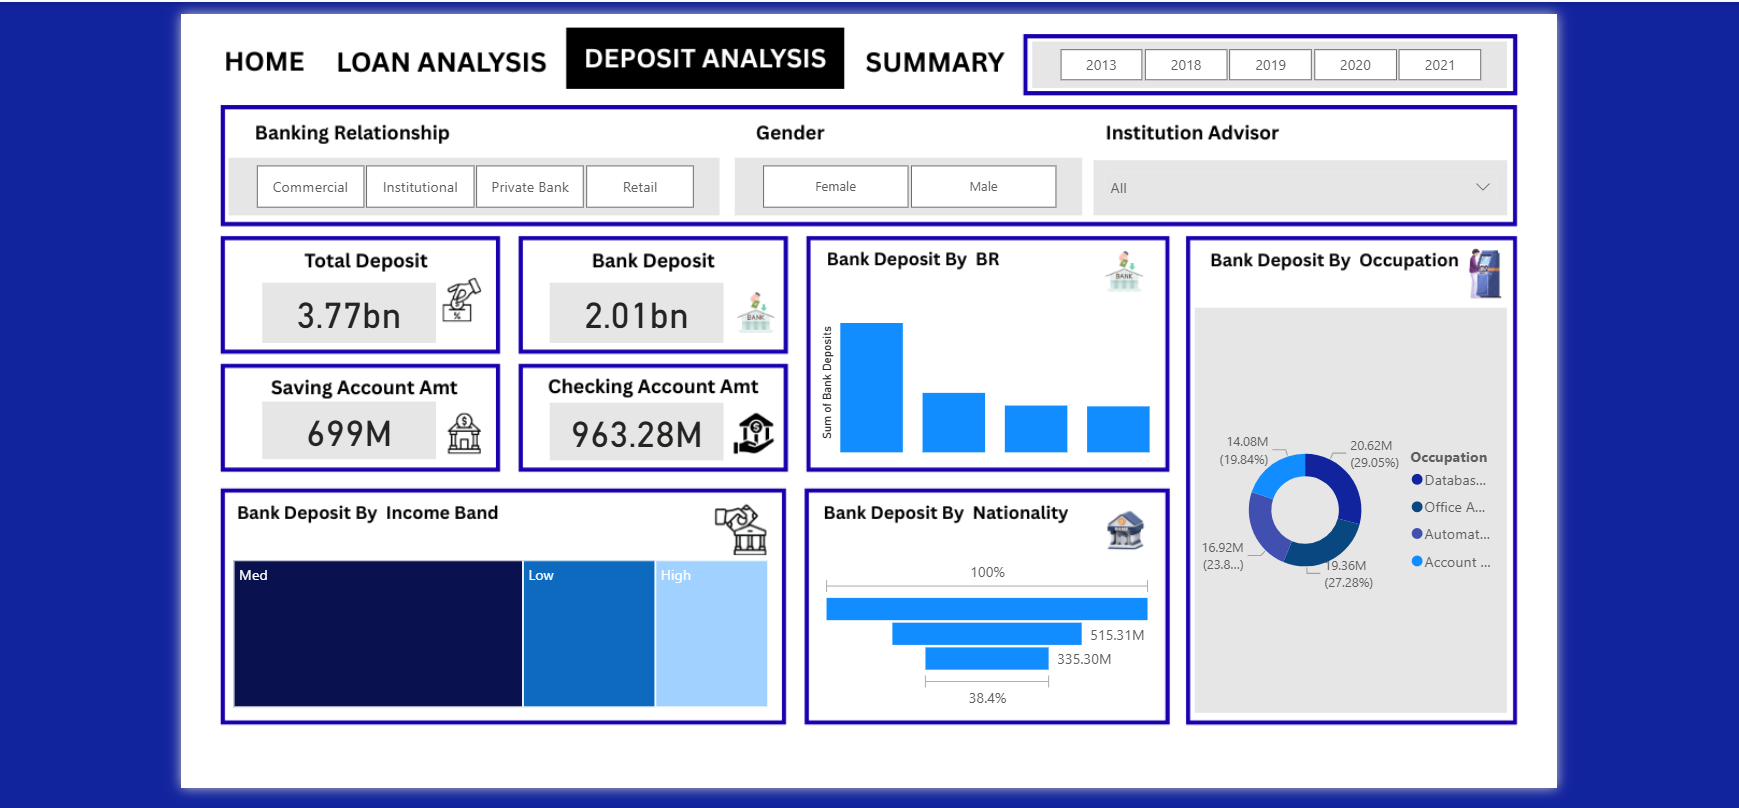

This screenshot's page, from the dashboard's own definition file:
{"tool":"powerbi","page":{"name":"Deposit Analysis","canvas":[1280,720],"ordinal":2},"visuals":[{"type":"slicer","fields":{"Values":["Banking.Year Of Joining"]},"box":[791.3,25.2,441.9,43.2],"z":0},{"type":"actionButton","box":[26.2,24.6,100,40],"z":1000},{"type":"actionButton","box":[629.2,24.6,144.6,40],"z":2000},{"type":"actionButton","box":[369.2,24.6,243.1,40],"z":3000},{"type":"actionButton","box":[142.9,14.3,200,54.3],"z":4000},{"type":"card","fields":{"Values":["Banking.Total Deposit"]},"box":[75.6,250,161.6,55.8],"z":5000},{"type":"card","fields":{"Values":["Sum(Banking.Bank Deposits)"]},"box":[343,250,161.6,55.8],"z":6000},{"type":"card","fields":{"Values":["Sum(Banking.Checking Accounts)"]},"box":[343,361.6,161.6,53.5],"z":7000},{"type":"card","fields":{"Values":["Sum(Banking.Saving Accounts)"]},"box":[75.6,360.5,161.6,53.5],"z":8000},{"type":"treemap","fields":{"Group":["Banking.Income Band"],"Values":["Sum(Banking.Bank Deposits)"]},"box":[44.2,503.5,507,146.5],"z":9000},{"type":"clusteredColumnChart","fields":{"Category":["Banking.BRId"],"Y":["Sum(Banking.Bank Deposits)"]},"box":[590.7,264,318.6,150],"z":10000},{"type":"funnel","fields":{"Category":["Banking.Nationality"],"Y":["Sum(Banking.Bank Deposits)"]},"box":[590.7,503.5,318.6,146.5],"z":11000},{"type":"donutChart","fields":{"Category":["Banking.Occupation"],"Y":["Sum(Banking.Bank Deposits)"]},"box":[943,273.3,290.7,376.7],"z":12000},{"type":"slicer","fields":{"Values":["Banking.BRId"]},"box":[44.2,133.7,457,53.5],"z":13000},{"type":"slicer","fields":{"Values":["Banking.GenderId"]},"box":[515.1,133.7,323.3,53.5],"z":14000},{"type":"slicer","fields":{"Values":["Banking.IAId"]},"box":[848.8,136,384.9,51.2],"z":15000}]}

Visuals, with their boxes on the page's 1280x720 design canvas (x1, y1, x2, y2). These are canvas units, not pixel positions in the 1739x808 screenshot, which may show the page scaled, cropped or inside an application window:
slicer - Banking.Year Of Joining: <box>791,25,1233,68</box>
actionButton: <box>26,25,126,65</box>
actionButton: <box>629,25,774,65</box>
actionButton: <box>369,25,612,65</box>
actionButton: <box>143,14,343,69</box>
card - Banking.Total Deposit: <box>76,250,237,306</box>
card - Sum(Banking.Bank Deposits): <box>343,250,505,306</box>
card - Sum(Banking.Checking Accounts): <box>343,362,505,415</box>
card - Sum(Banking.Saving Accounts): <box>76,360,237,414</box>
treemap - Banking.Income Band x Sum(Banking.Bank Deposits): <box>44,504,551,650</box>
clusteredColumnChart - Banking.BRId x Sum(Banking.Bank Deposits): <box>591,264,909,414</box>
funnel - Banking.Nationality x Sum(Banking.Bank Deposits): <box>591,504,909,650</box>
donutChart - Banking.Occupation x Sum(Banking.Bank Deposits): <box>943,273,1234,650</box>
slicer - Banking.BRId: <box>44,134,501,187</box>
slicer - Banking.GenderId: <box>515,134,838,187</box>
slicer - Banking.IAId: <box>849,136,1234,187</box>
